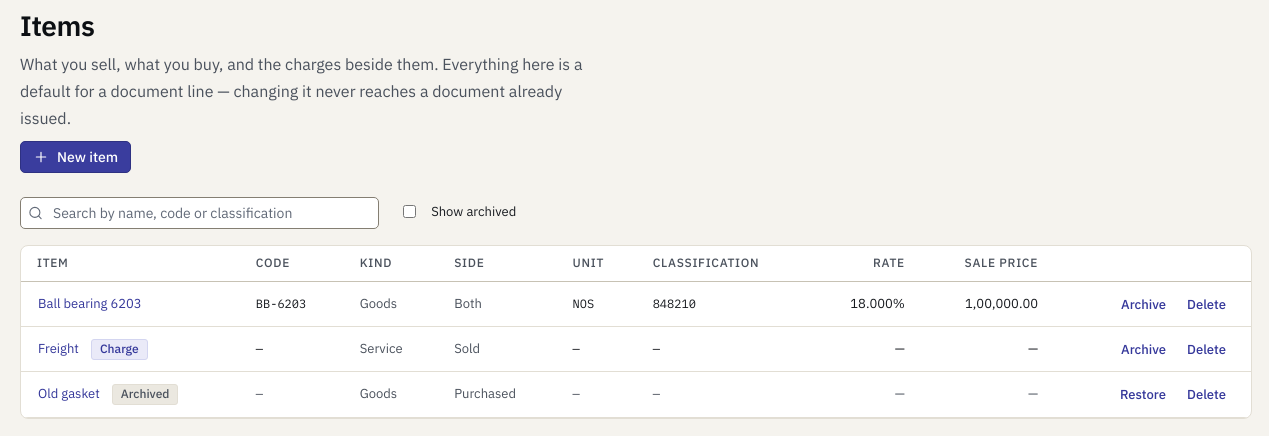
it: the list › filters as you type, without asking again
Expected: the button "Ball bearing 6203" is shown, x1=29 y1=290 x2=151 y2=318
Type "848210" into the field with placeholder "Search by name, code or classification".
click(200, 213); type("848210")  # box x1=20 y1=197 x2=379 y2=229
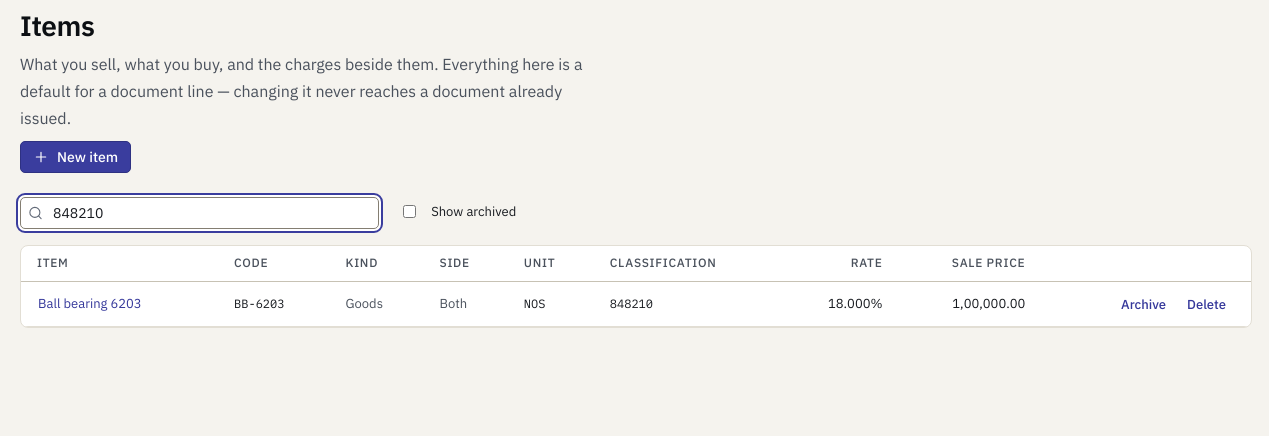
Expected: the button "Ball bearing 6203" is shown, x1=29 y1=290 x2=151 y2=318
Expected: the button "Freight" is gone
